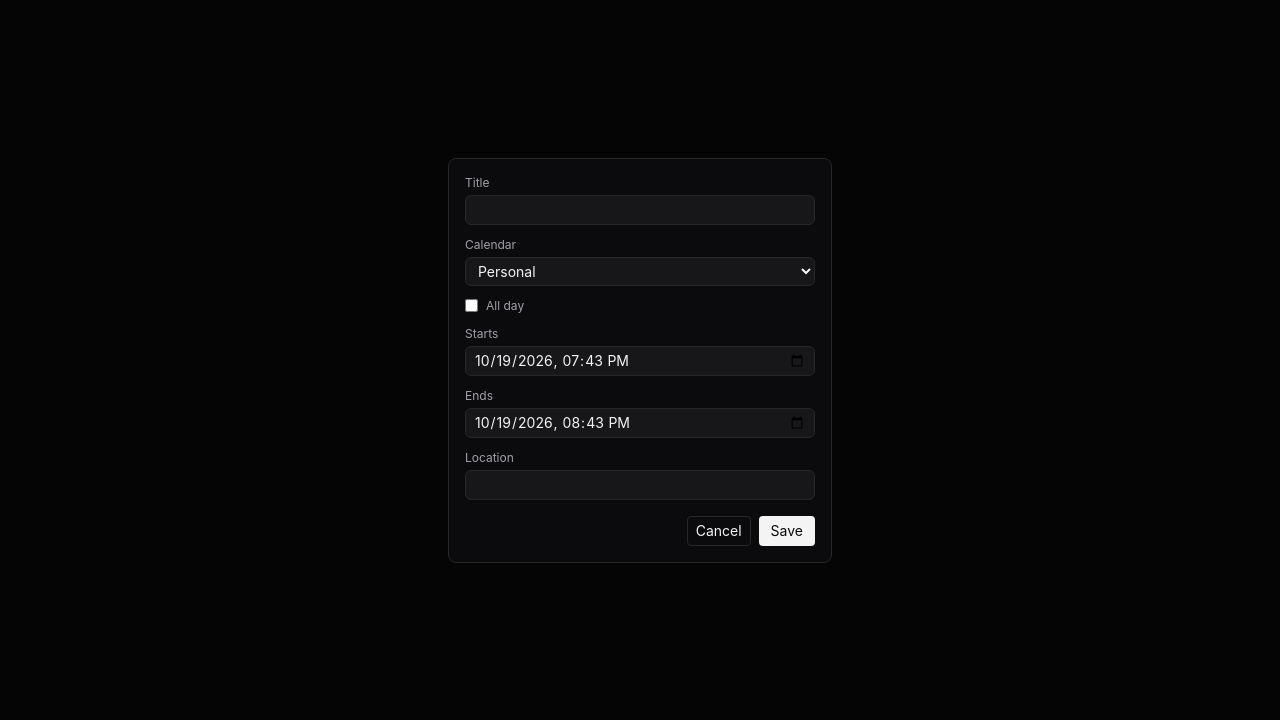
EventDialog create mode › shows the error the main process returned instead of closing
The width and height of the screenshot is (1280, 720).
In the field labelled "Title": point(640, 210) [465,194,815,224], type "x"
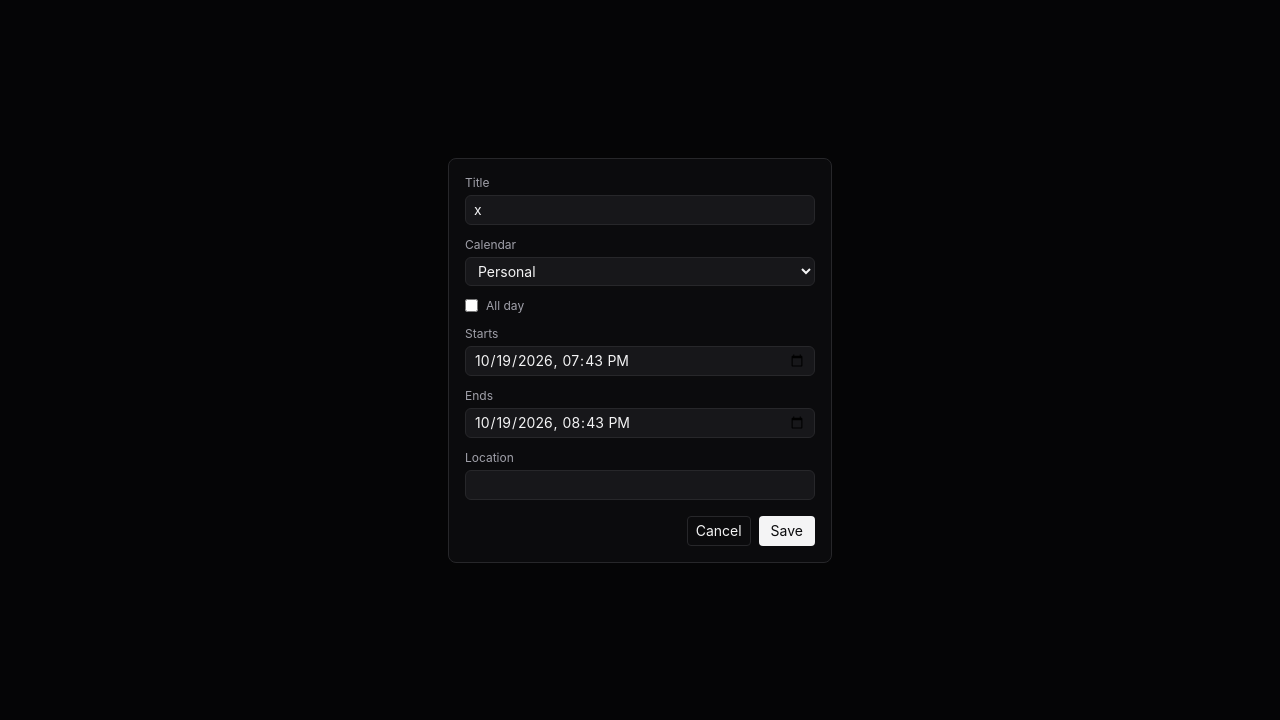
Click the button "Save": point(787, 530) [759,516,815,546]
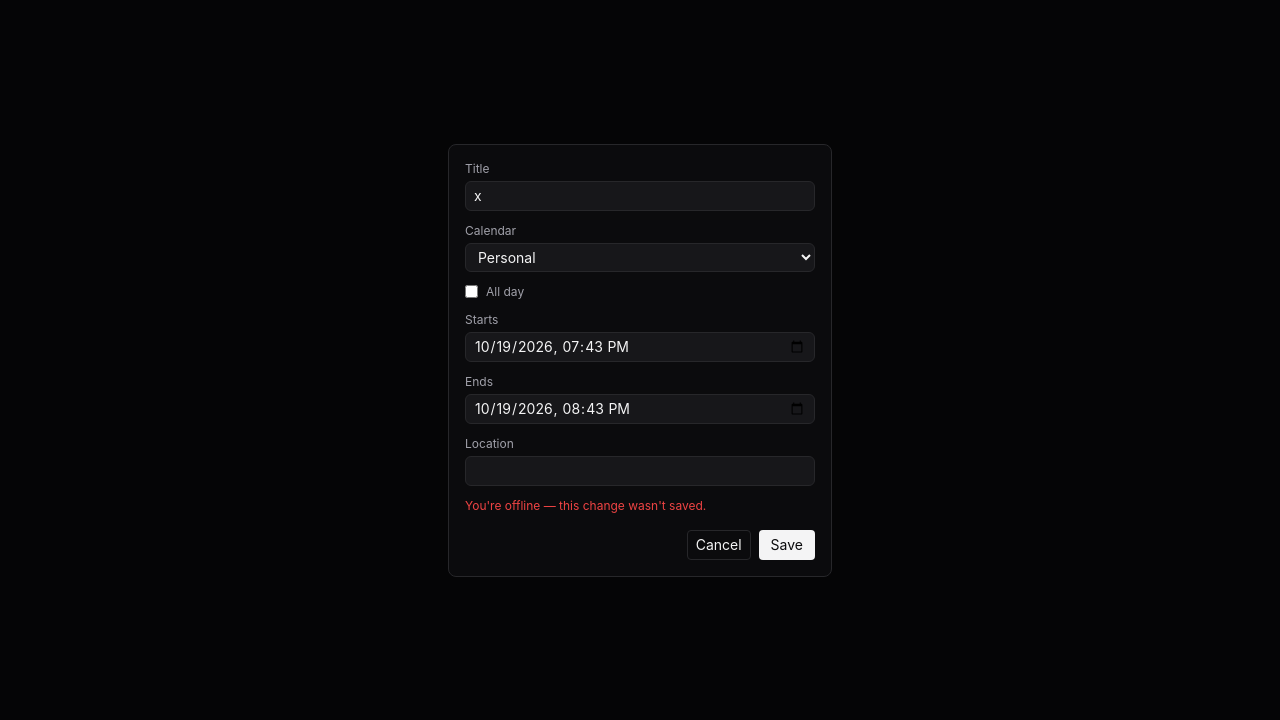
Now the message shows "offline", box [465,498,706,512]
